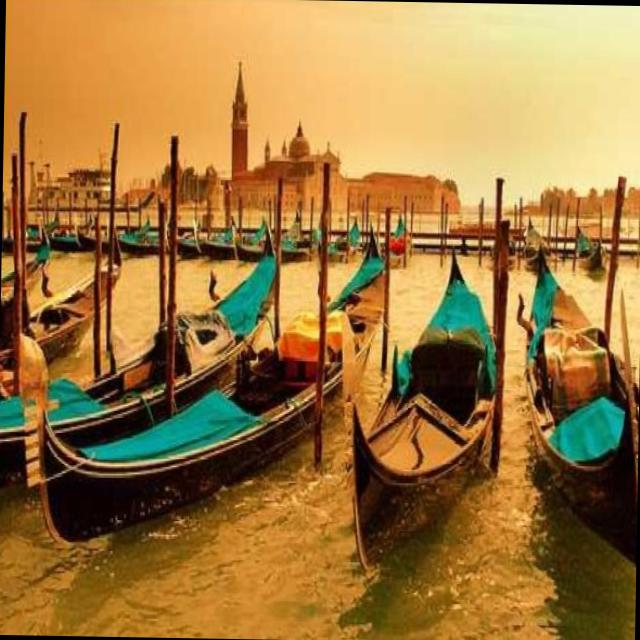boat: (14, 212, 392, 545), (0, 221, 286, 469), (337, 198, 512, 590), (507, 213, 640, 584)
